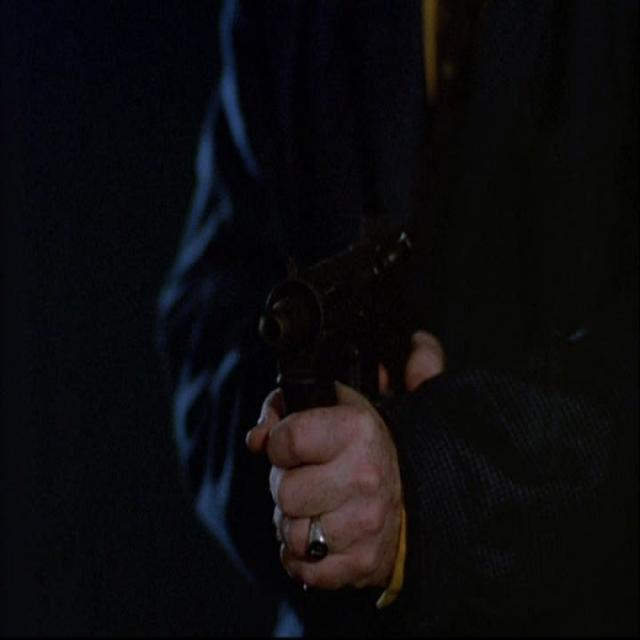rifle: (259, 209, 438, 416)
